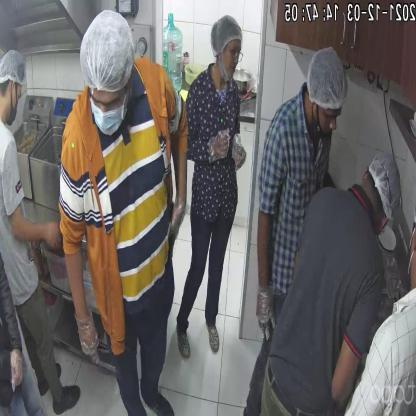no_apron: (63, 60, 169, 311), (268, 95, 332, 289), (190, 78, 238, 212)
